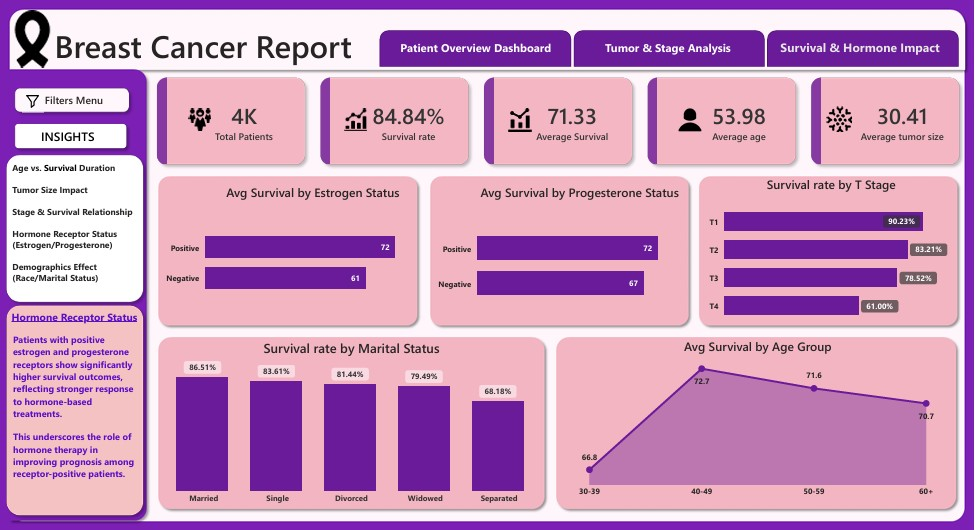

The page's visual inventory and layout, read from the dashboard file:
{"tool":"powerbi","page":{"name":"Survival & Hormone Impact","canvas":[1500,820],"ordinal":2},"visuals":[{"type":"clusteredBarChart","fields":{"Category":["Breast_Cancer.Estrogen Status"],"Y":["Breast_Cancer.Avg Survival"]},"box":[249.2,282,396.7,213.1],"z":0},{"type":"clusteredBarChart","fields":{"Category":["Breast_Cancer.Progesterone Status"],"Y":["Breast_Cancer.Avg Survival"]},"box":[668.9,282,398.4,213.1],"z":1000},{"type":"lineChart","fields":{"Category":["Breast_Cancer.Age Group"],"Y":["Breast_Cancer.Avg Survival"]},"box":[859,521.3,616.4,254.1],"z":2000},{"type":"clusteredColumnChart","fields":{"Category":["Breast_Cancer.Marital Status"],"Y":["Breast_Cancer.Survival rate"]},"box":[249.2,521.3,593.4,263.9],"z":3000},{"type":"barChart","fields":{"Category":["Breast_Cancer.T Stage"],"Y":["Breast_Cancer.Survival rate"]},"box":[1085.2,272.1,388.5,223],"z":4000},{"type":"cardVisual","fields":{"Data":["Breast_Cancer.Total Patients","Breast_Cancer.Survival rate %","Breast_Cancer.Avg Survival","Breast_Cancer.Avg age","Breast_Cancer.Average tumor size"]},"box":[221.3,101.6,1277,170.5],"z":5000},{"type":"shape","box":[13.4,125.8,193.8,55.7],"z":6000},{"type":"textbox","box":[23,138,180.2,37.1],"z":7000},{"type":"image","box":[0,9.8,98,98],"z":8000},{"type":"shape","box":[584.5,45.6,294.7,56.1],"z":9000},{"type":"shape","box":[882.7,45.6,294.7,56.1],"z":10000},{"type":"shape","box":[1181,45.6,294.7,56.1],"z":11000},{"type":"pageNavigator","box":[589,47,879.5,50],"z":12000},{"type":"textbox","box":[78.3,31.7,486.7,76.7],"z":13000},{"type":"actionButton","box":[32.8,137.5,33.6,34.4],"z":14000},{"type":"image","box":[34.5,137.5,29.5,35.5],"z":15000},{"type":"shape","box":[0,229.3,229.3,244.4],"z":16000},{"type":"shape","box":[13.4,181.4,189.7,55.7],"z":17000},{"type":"textbox","box":[13.1,244.4,202,217.2],"z":18000},{"type":"textbox","box":[14,192,179.4,44.3],"z":19000},{"type":"shape","box":[0,461.3,229,341.9],"z":21000},{"type":"textbox","box":[12,472,207.1,36.4],"z":22000},{"type":"textbox","box":[14.1,508.1,201,276.8],"z":23000}]}

Visuals, with their boxes in screenshot pixels (x1, y1, x2, y2), scaled from the page's 1500x820 canvas onto the 975x530 screenshot:
clusteredBarChart - Breast_Cancer.Estrogen Status x Breast_Cancer.Avg Survival: bbox(162, 182, 420, 320)
clusteredBarChart - Breast_Cancer.Progesterone Status x Breast_Cancer.Avg Survival: bbox(435, 182, 694, 320)
lineChart - Breast_Cancer.Age Group x Breast_Cancer.Avg Survival: bbox(558, 337, 959, 501)
clusteredColumnChart - Breast_Cancer.Marital Status x Breast_Cancer.Survival rate: bbox(162, 337, 548, 508)
barChart - Breast_Cancer.T Stage x Breast_Cancer.Survival rate: bbox(705, 176, 958, 320)
cardVisual - Breast_Cancer.Total Patients x Breast_Cancer.Survival rate %: bbox(144, 66, 974, 176)
shape: bbox(9, 81, 135, 117)
textbox: bbox(15, 89, 132, 113)
image: bbox(0, 6, 64, 70)
shape: bbox(380, 29, 571, 66)
shape: bbox(574, 29, 765, 66)
shape: bbox(768, 29, 959, 66)
pageNavigator: bbox(383, 30, 955, 63)
textbox: bbox(51, 20, 367, 70)
actionButton: bbox(21, 89, 43, 111)
image: bbox(22, 89, 42, 112)
shape: bbox(0, 148, 149, 306)
shape: bbox(9, 117, 132, 153)
textbox: bbox(9, 158, 140, 298)
textbox: bbox(9, 124, 126, 153)
shape: bbox(0, 298, 149, 519)
textbox: bbox(8, 305, 142, 329)
textbox: bbox(9, 328, 140, 507)
